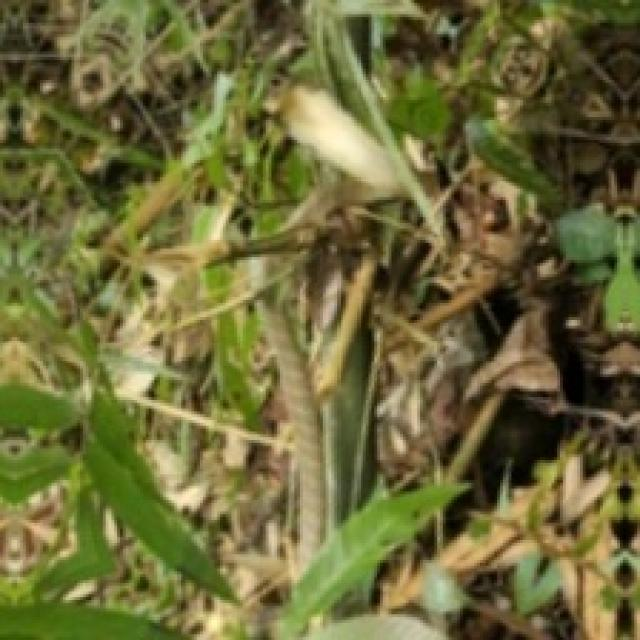king cobra: (270, 85, 398, 233), (262, 299, 325, 567)
